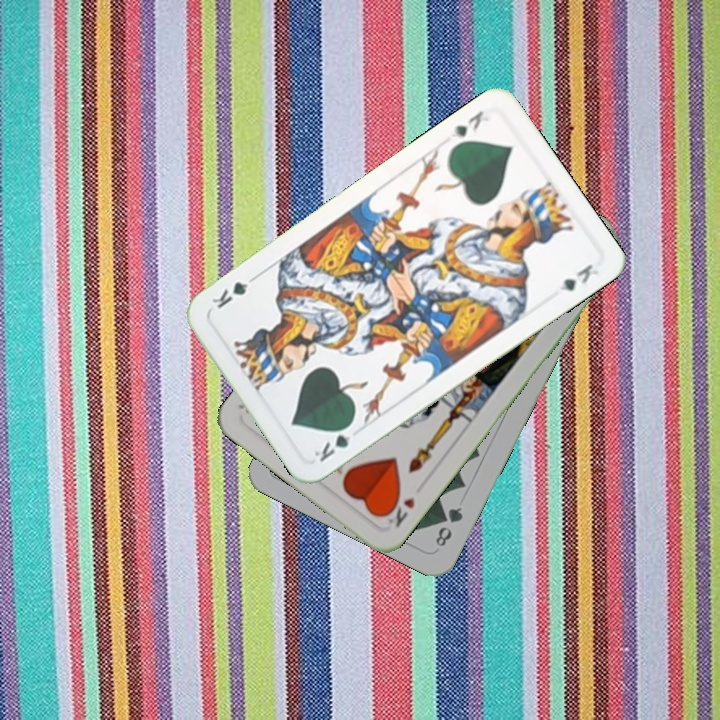G8: (431, 502, 466, 550)
GK: (309, 418, 356, 465), (447, 106, 492, 140)
HK: (380, 490, 418, 530)
